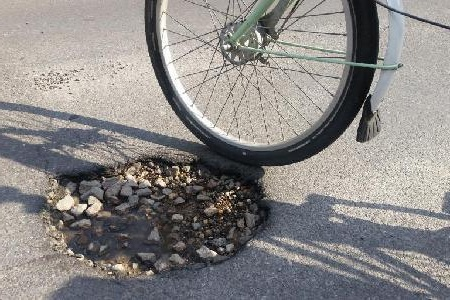pothole: (40, 152, 273, 277)
